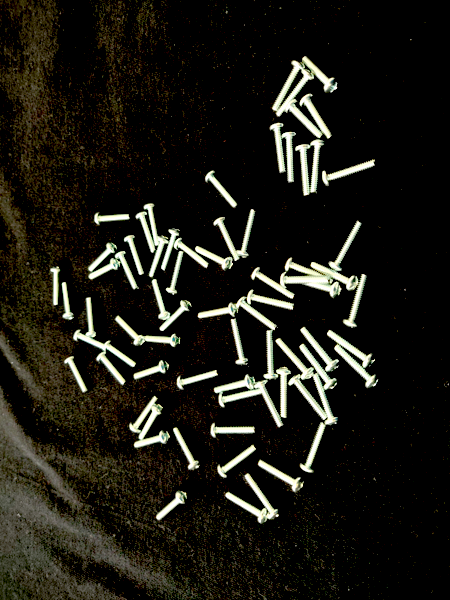longscrew: (333, 344, 382, 390), (327, 329, 377, 370), (276, 69, 317, 118), (328, 219, 365, 273), (300, 325, 341, 373), (299, 344, 340, 391), (288, 373, 328, 421), (244, 474, 283, 521), (272, 60, 306, 112), (299, 93, 336, 140), (276, 337, 315, 381), (321, 158, 377, 188), (258, 458, 305, 493), (285, 99, 325, 140), (253, 378, 285, 429), (312, 374, 342, 427), (342, 273, 370, 329), (302, 54, 340, 95), (236, 296, 279, 332), (251, 267, 296, 301), (311, 261, 360, 292), (226, 492, 270, 525), (218, 443, 258, 479), (300, 422, 327, 475), (284, 257, 334, 285), (205, 170, 240, 210), (173, 428, 203, 471), (173, 237, 211, 270), (129, 395, 160, 435), (213, 217, 241, 261), (96, 351, 129, 387), (159, 299, 193, 332), (195, 245, 235, 273), (236, 209, 258, 259), (247, 289, 296, 311), (156, 490, 189, 522), (230, 318, 252, 366), (115, 250, 140, 292), (103, 340, 139, 369), (218, 387, 265, 409), (135, 211, 159, 254), (310, 139, 328, 195), (64, 357, 90, 395), (138, 404, 164, 442), (177, 368, 219, 391), (87, 242, 118, 273), (115, 316, 146, 347), (276, 366, 294, 419), (161, 228, 183, 271), (123, 235, 146, 276), (299, 278, 343, 299), (282, 131, 299, 185), (148, 235, 169, 278), (214, 374, 257, 395), (295, 144, 312, 197), (166, 250, 185, 296), (263, 330, 280, 381), (280, 273, 331, 290), (152, 278, 172, 321), (211, 421, 258, 439), (270, 122, 286, 174), (198, 301, 240, 320), (73, 329, 106, 352), (134, 360, 170, 381), (88, 258, 121, 280), (144, 203, 160, 247), (134, 430, 171, 449), (93, 211, 133, 226), (61, 282, 76, 321), (85, 297, 99, 338), (145, 334, 182, 349), (50, 266, 63, 306)
